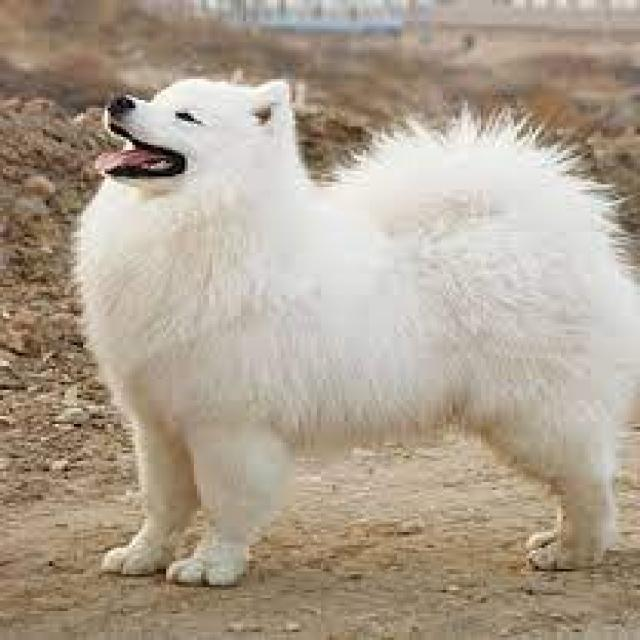dogs: (71, 76, 640, 590)
